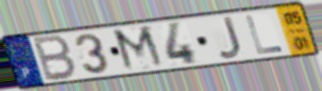3: (73, 32, 111, 76)
4: (165, 20, 200, 67)
B: (31, 34, 78, 83)
J: (215, 15, 244, 61)
L: (243, 14, 286, 56)
M: (110, 24, 169, 73)
